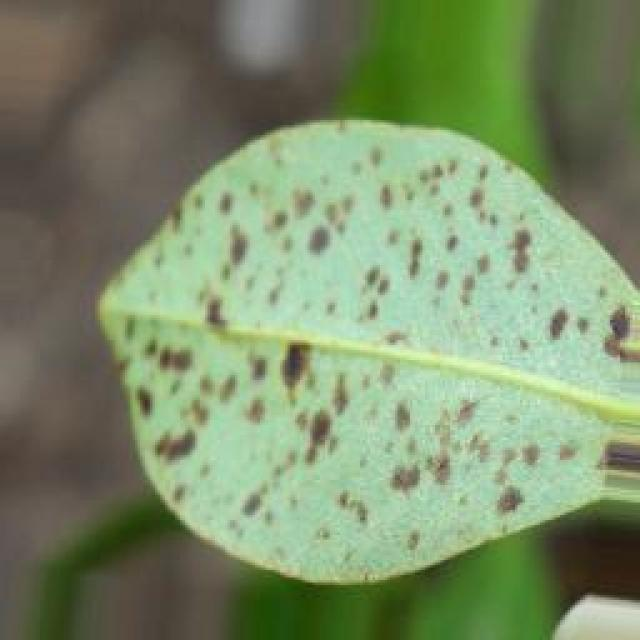Whitefly: (63, 123, 640, 587)
